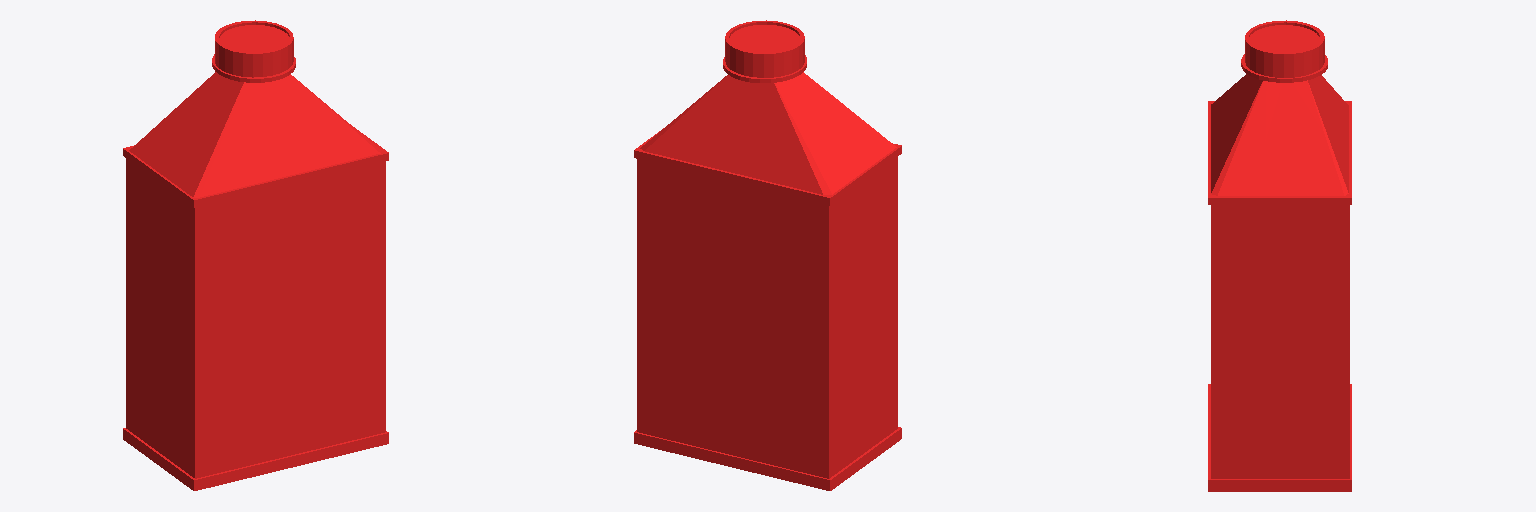
The robot description file, URDF, robot "bottle":
<?xml version="0.0" ?>
<robot name="bottle">
    <link concave="yes" name="base_link">
        <!-- <contact>
            <lateral_friction value="3.0"/>
            <rolling_friction value="3.0"/>
            <spinning_friction value="3.0"/>
        </contact> -->
        <inertial>
            <origin xyz="0 0 0.03"/>
            <mass value="1"/>
            <inertia ixx="1" ixy="0" ixz="0" iyy="1" iyz="0" izz="1"/>
        </inertial>
        <visual>
            <origin xyz="0.0 -0.0  0"/>
            <geometry>
                <mesh filename="bottle.obj" scale="0.01 0.01 0.01 "/>
            </geometry>
      <material name="bottle">
        <color rgba="1.0 0.2 0.2 1"/>
        <specular rgb="1 1 1"/>
      </material>
        </visual>
        <collision concave="yes">
            <origin xyz="0.0 -0.0 0"/>
            <geometry>
                <mesh filename="bottle.obj" scale="0.01 0.01 0.01 "/>
            </geometry>
        </collision>
    </link>
</robot>

--- Facts derived from the render (not from the file) ---
The picture shows the robot from 3 angles, left to right: view 1: azimuth 30°, elevation 25°; view 2: azimuth 150°, elevation 25°; view 3: azimuth 270°, elevation 25°; orthographic projection.
Robot: bottle — 1 links, 0 joints (none); root link base_link; default pose: all joints at 0.
Links seen in each view (by area): view 1: base_link; view 2: base_link; view 3: base_link.
Boxes of the visible links, x1,y1,x2,y2 form: base_link: [123, 20, 388, 490]; base_link: [634, 20, 901, 490]; base_link: [1208, 20, 1351, 491].
Bounding box of the posed robot: 0.074 × 0.0469 × 0.1458 m (x, y, z).
Meshes: 1 distinct files referenced, 1 mesh visuals loaded (1 OBJ).